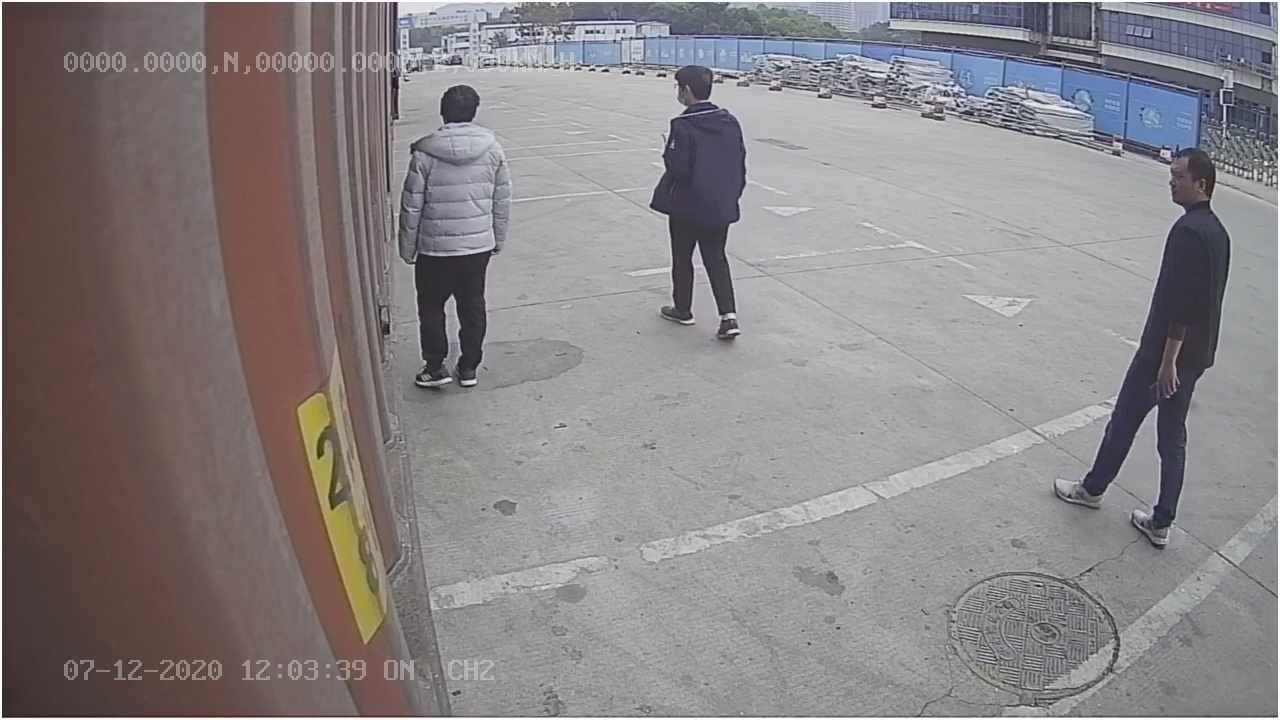person: (1049, 142, 1229, 545), (397, 80, 513, 388), (647, 56, 762, 349)
